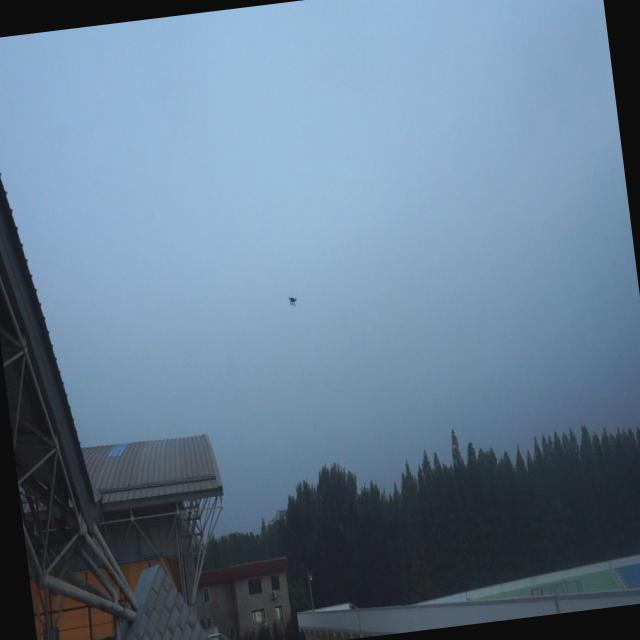drone: (284, 288, 300, 308)
